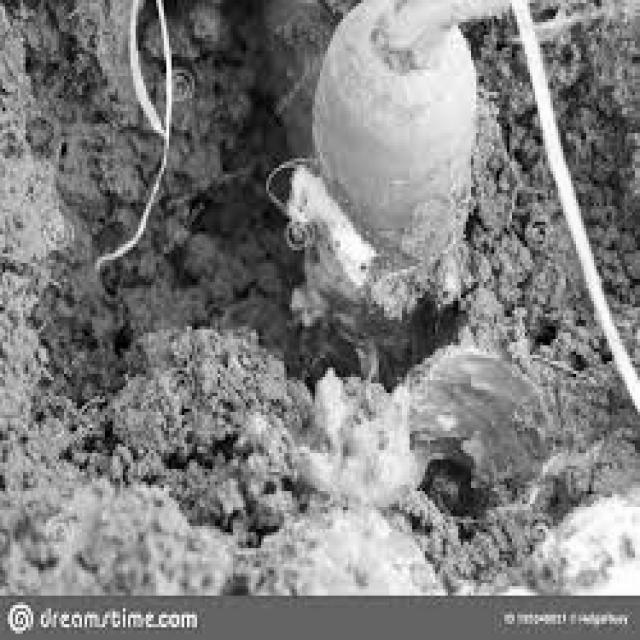Stale_Carrot: (286, 2, 489, 377), (291, 351, 552, 508)
